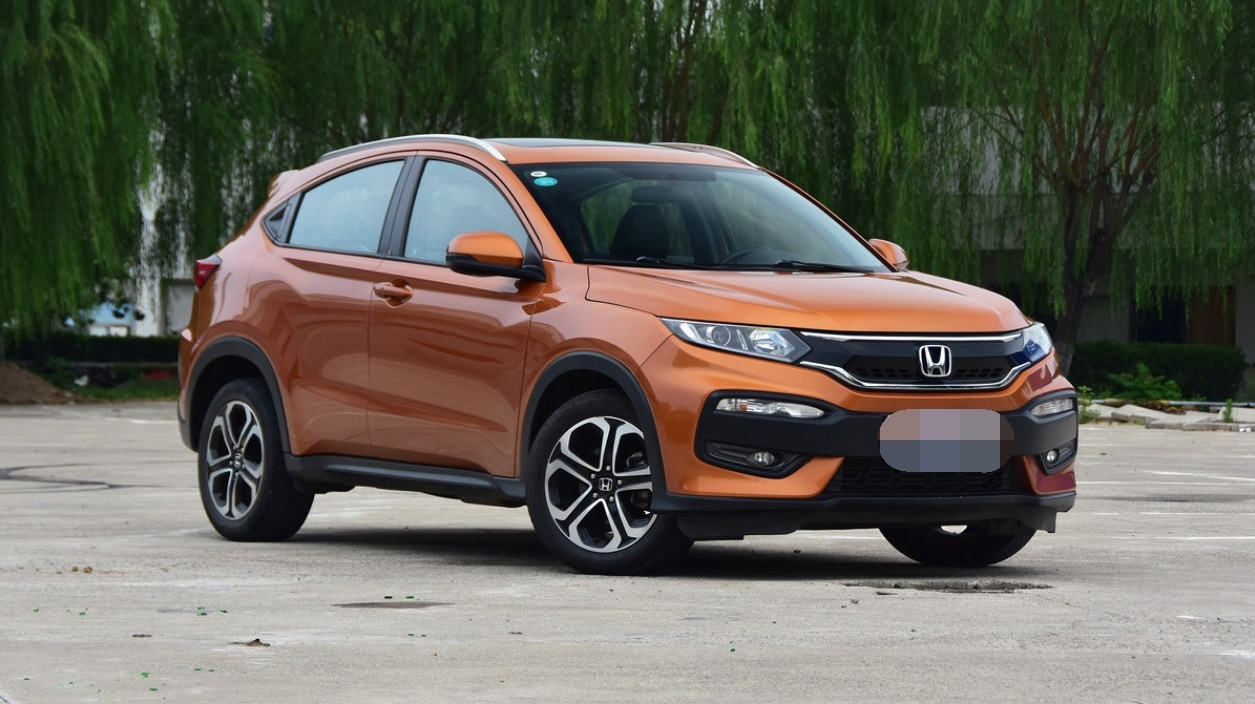SUV: (158, 108, 1090, 586)
